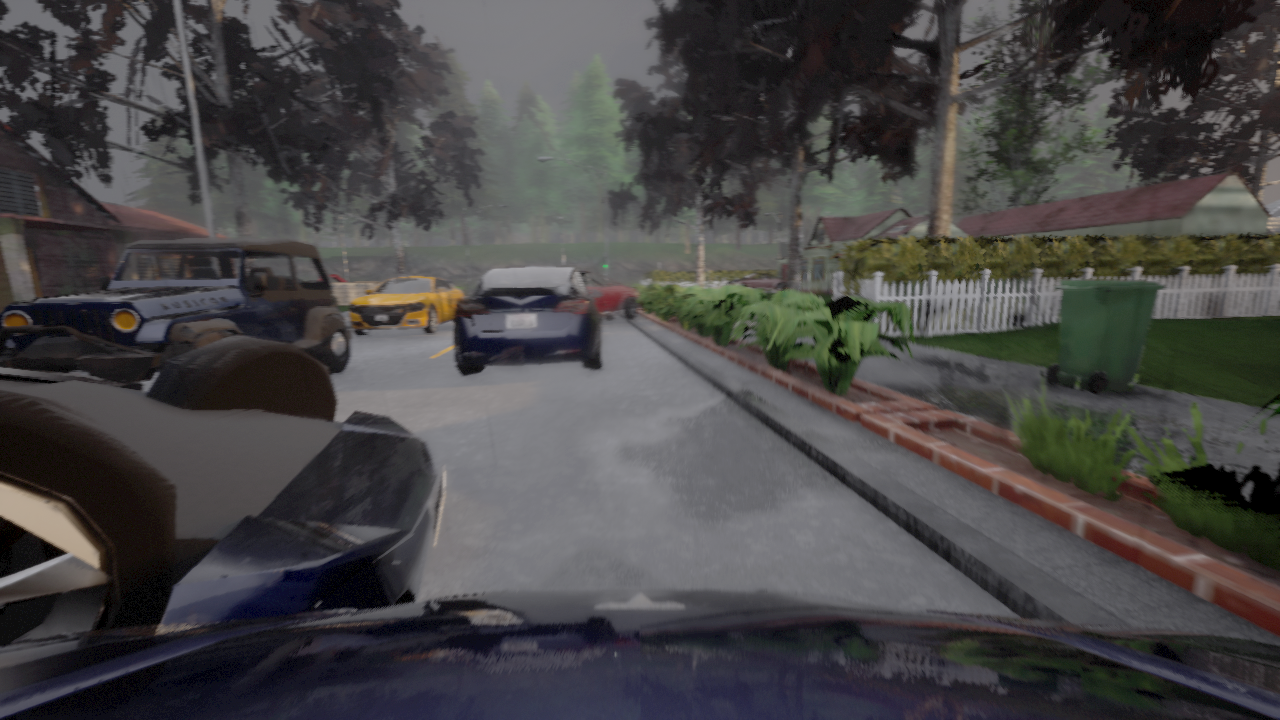cyclist: (0, 588, 1279, 719), (0, 335, 446, 644), (0, 239, 351, 381), (454, 267, 603, 375), (349, 275, 462, 335), (580, 270, 641, 319), (725, 273, 786, 291)
pedestrian: (448, 277, 454, 286)
